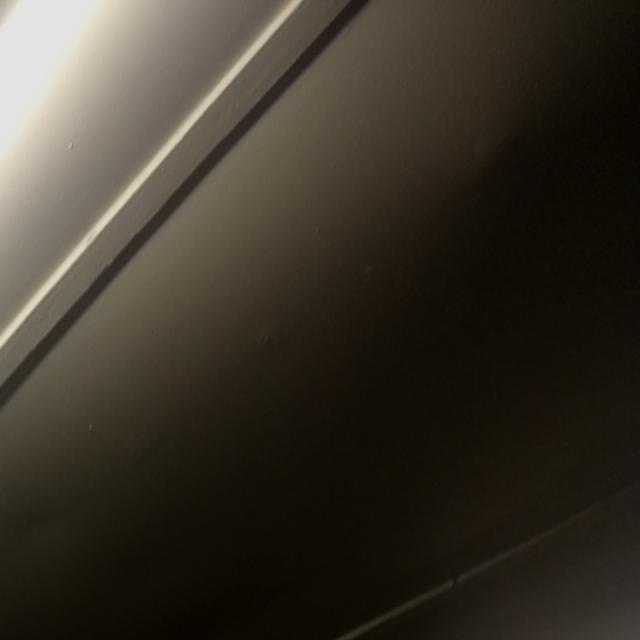fluorescent tube: (0, 0, 154, 583)
